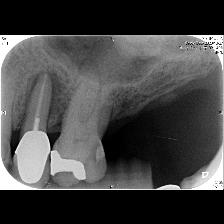apical_lesion: (10, 46, 69, 190)
